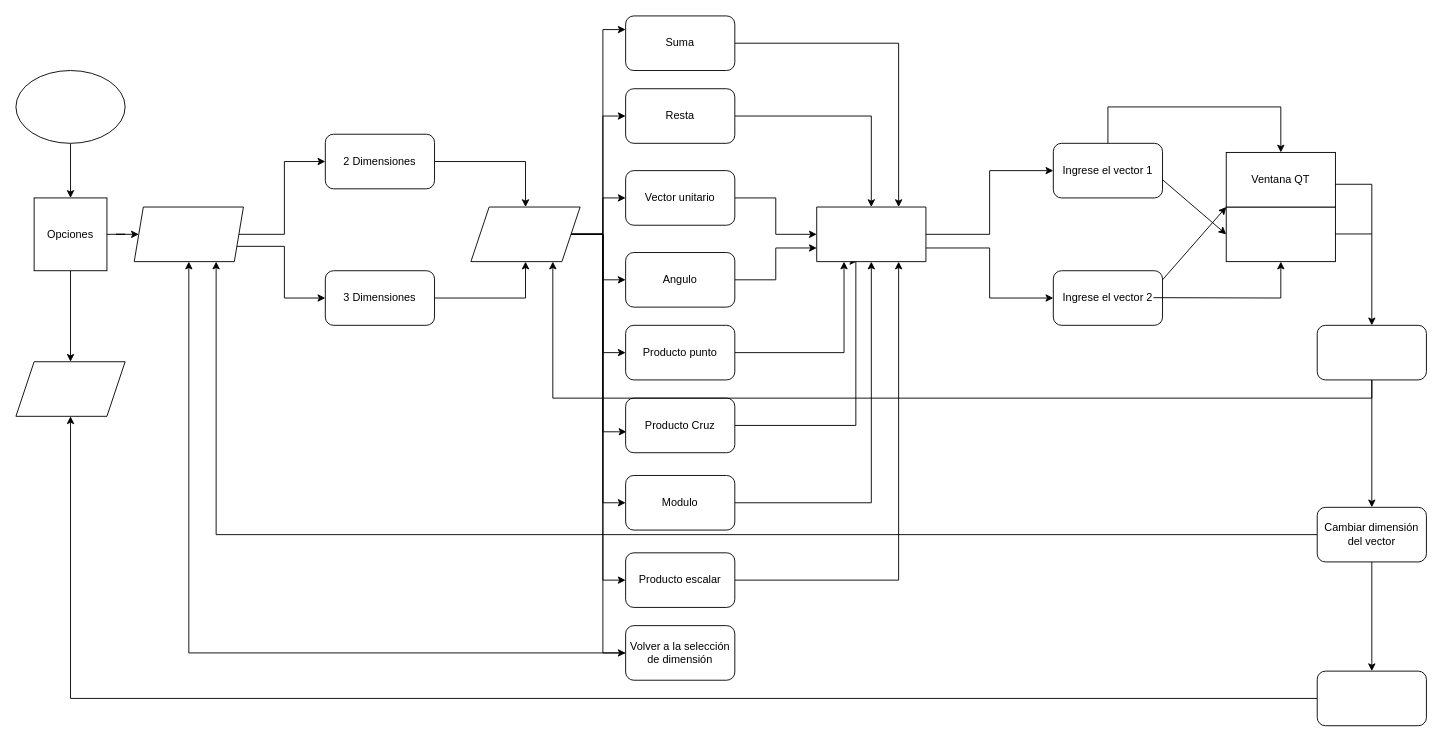
The diagram is 1442 pixels wide and 742 high, and some of its shapes have lost their labels. Here are the shapes that lost their labels. From the top down, the box of each, then its label:
(15, 70, 125, 143): Main
(133, 206, 243, 262): Elegir dimension de vector
(470, 206, 580, 262): Elegir la operacion
(816, 206, 926, 262): Operación seleccionada:
(1225, 206, 1335, 262): El resultado es:
(1316, 324, 1426, 380): Desea realizar otra operación?
(15, 361, 125, 416): Salida del progama
(1316, 670, 1426, 726): Salir del progama
